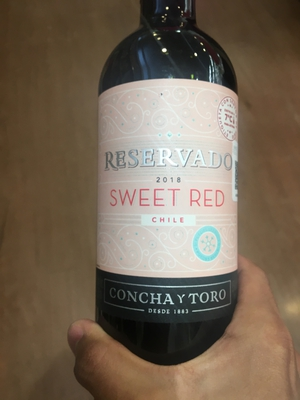reservado sweet red: (99, 4, 241, 362)
